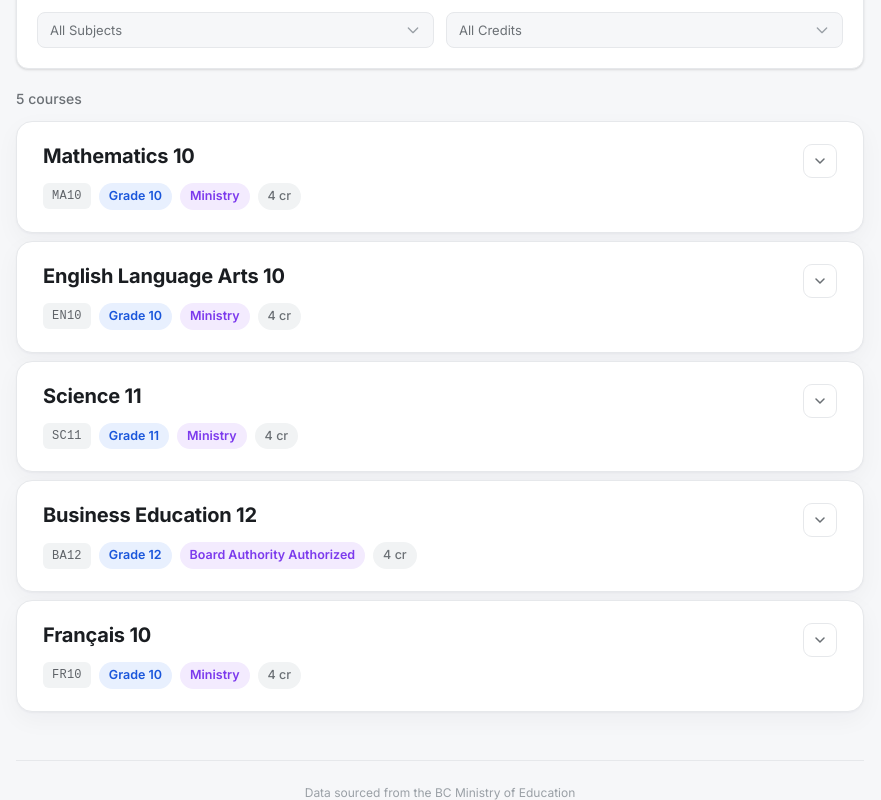
Home page — expand (courses-only, no detail fetch) › expands to show the course's own fields
(page scrolled)
expect the text "Mathematics 10" is shown: met, box [43,144,195,168]
Click the button named "Toggle details" in the row of "Science 11" at [820, 401], box [803,384,837,418]
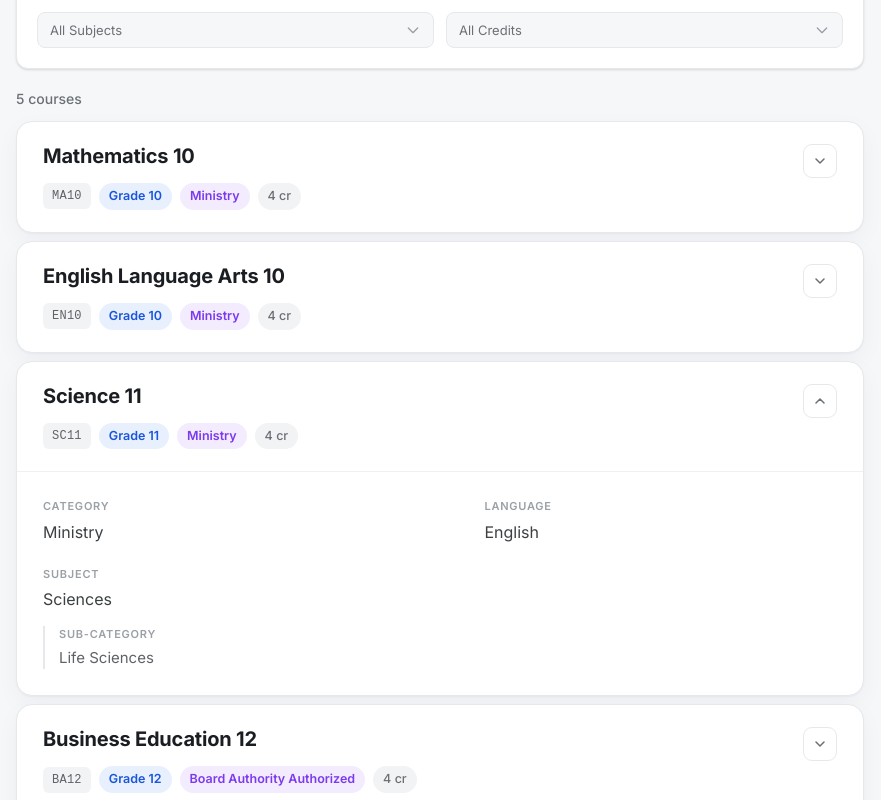
expect the text "Sub-category" is shown: met, box [59,627,156,641]
expect the text "Life Sciences" is shown: met, box [59,648,154,667]
expect the text "Subject" is shown: met, box [43,567,99,581]
